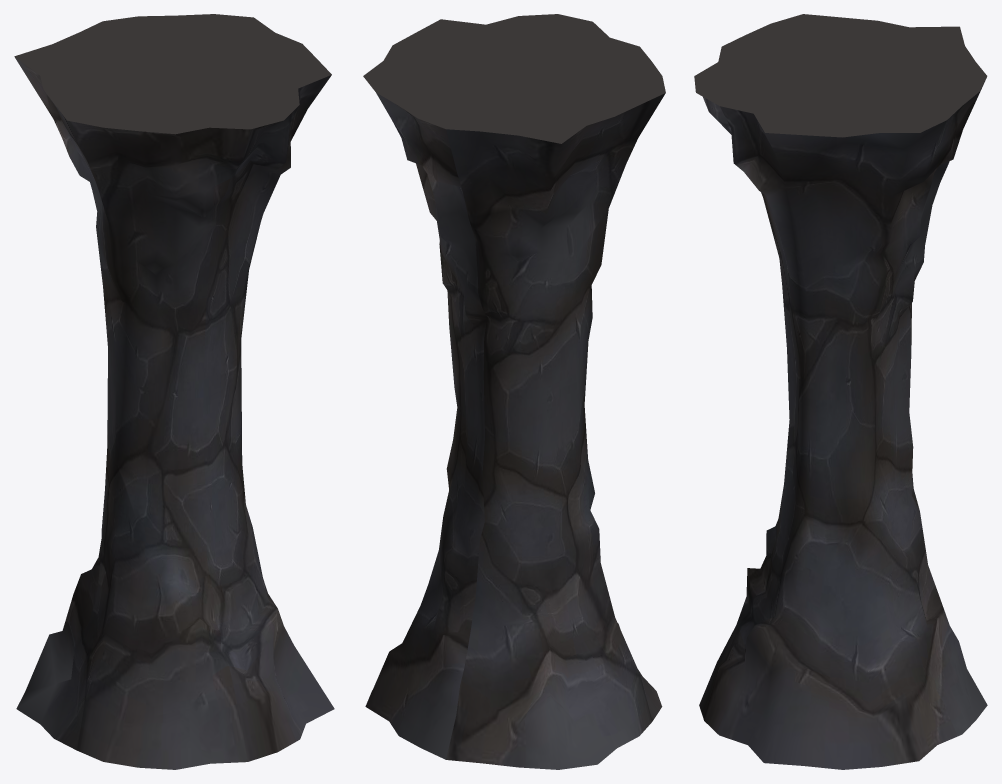
Rendered from Support.fbx.
3 views of the same model, side by side, from view 1: azimuth 30°, elevation 25°; view 2: azimuth 150°, elevation 25°; view 3: azimuth 270°, elevation 25° (orthographic).
Parts seen in each view (by area): view 1: Support; view 2: Support; view 3: Support.
Boxes of the visible parts, x1,y1,x2,y2 form: Support: [14, 14, 334, 769]; Support: [363, 14, 665, 769]; Support: [694, 14, 987, 769].
Bounding box in the file's own units: 129 × 298 × 126.
